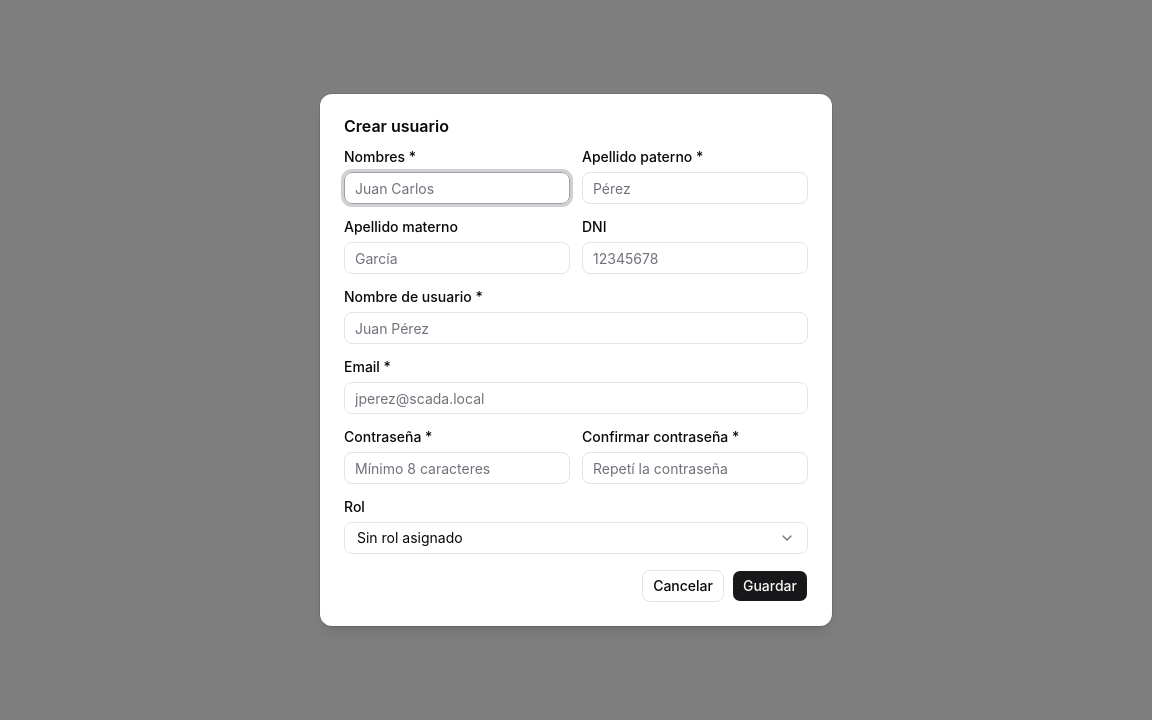
Test case: FormularioUsuario — modo crear › muestra error cuando los passwords no coinciden
Type "password123" into the password field with placeholder "Mínimo 8 caracteres" at (457, 468), box [344,452,570,484]
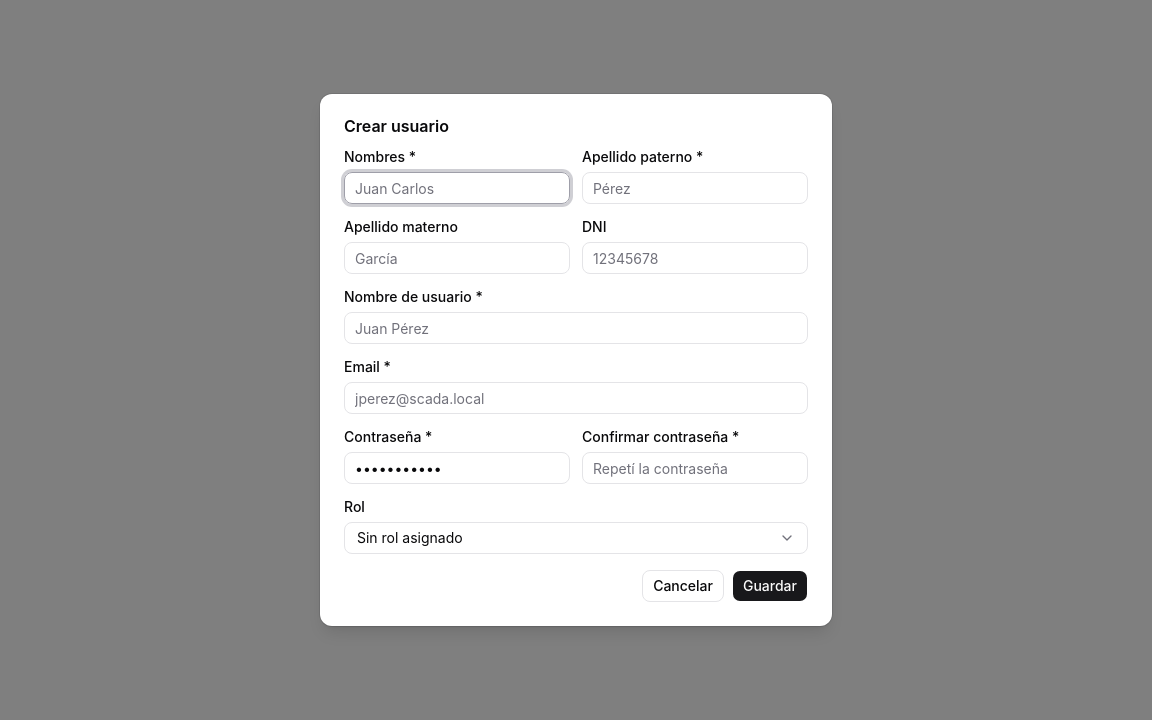
Type "diferente123" into the password field with placeholder "Repetí la contraseña" at (695, 468), box [582,452,808,484]
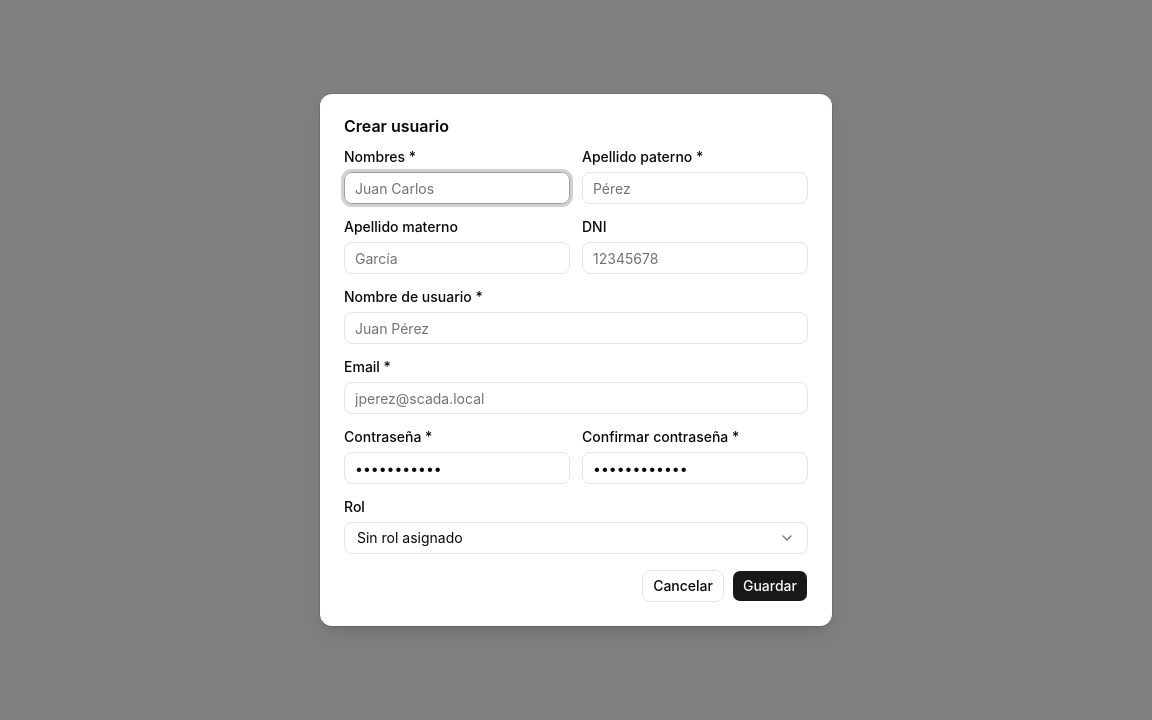
Click the button "Guardar" at (770, 586), box [732,570,808,602]
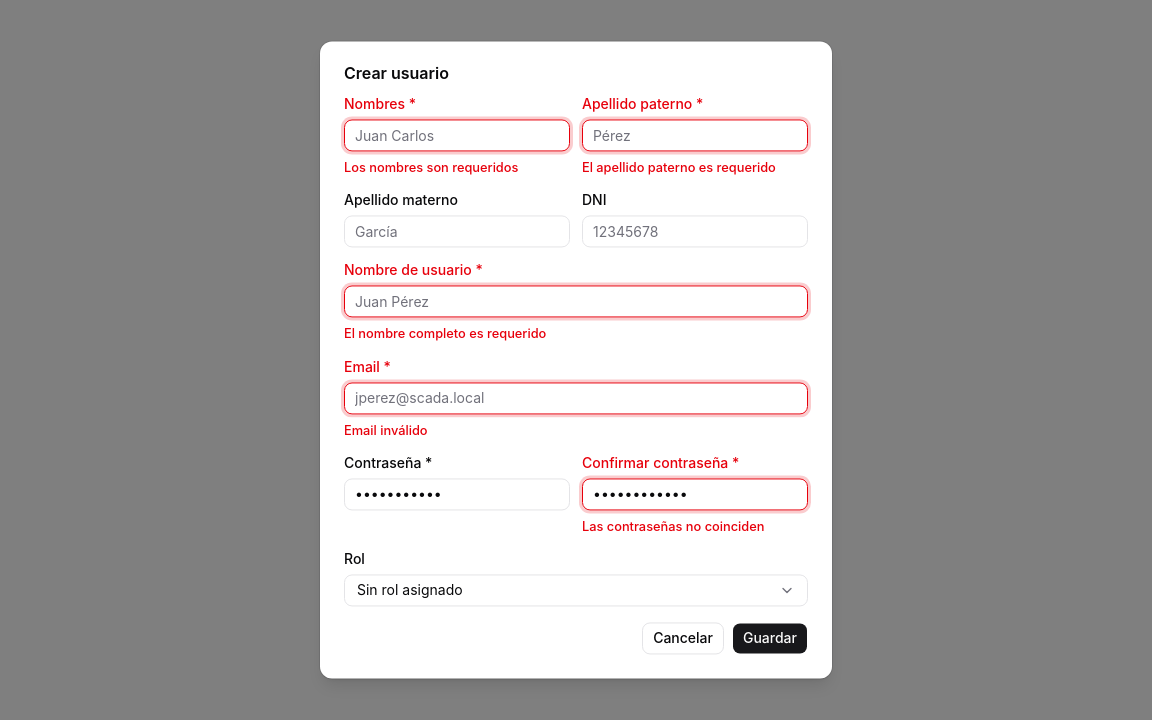
expect the text "Las contraseñas no coinciden" is shown: met, box [582,519,764,534]
